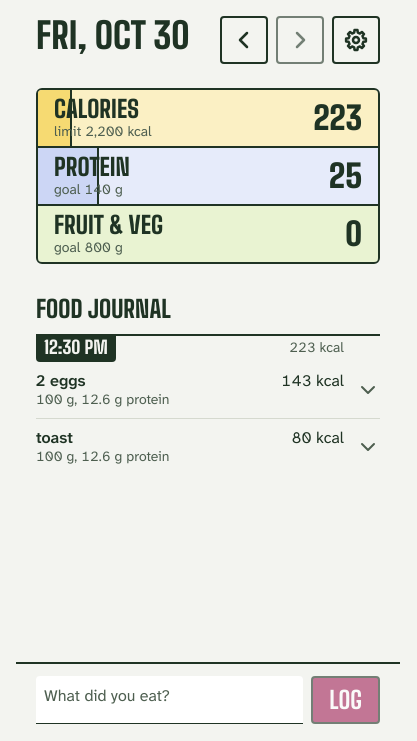
it: Today's journal hooks for its styles › marks only the open row as open, and unmarks it when it closes
Step 1. Click the button "2 eggs 143 kcal 100 g, 12.6 g protein" → [61, 381], box [36, 362, 380, 418]
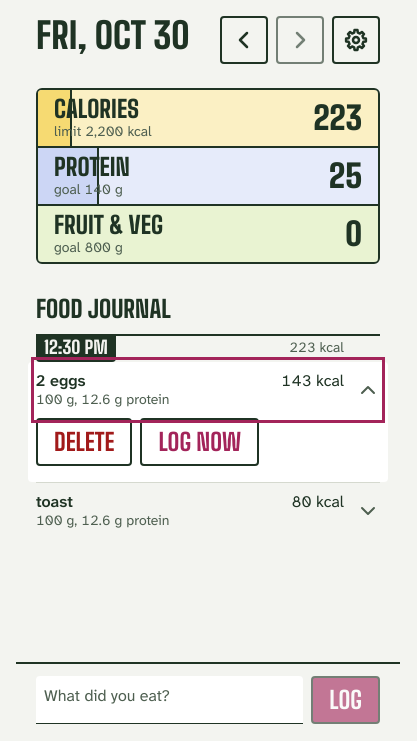
expect the list item "2 eggs 143 kcal 100 g, 12.6 g protein Delete Log now" has class "food-item-open": met, box [28, 362, 388, 482]
Step 2. Click the button "2 eggs 143 kcal 100 g, 12.6 g protein" → [61, 381], box [36, 362, 380, 418]
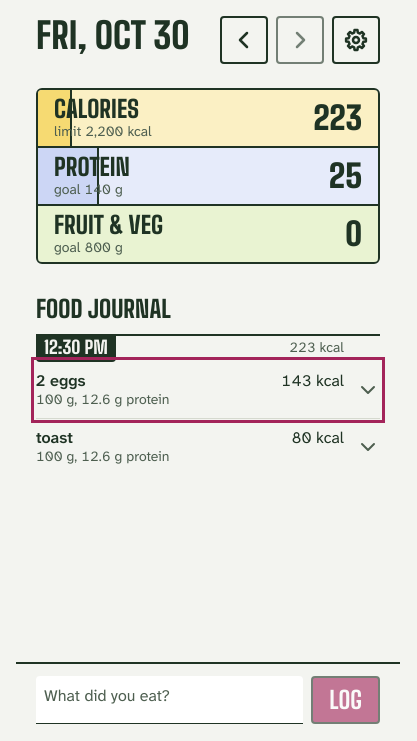
expect the list item "2 eggs 143 kcal 100 g, 12.6 g protein" does not have class "food-item-open": met, box [36, 362, 380, 418]
